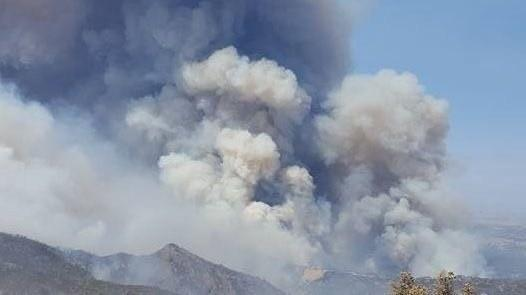smoke: (38, 0, 474, 292)
